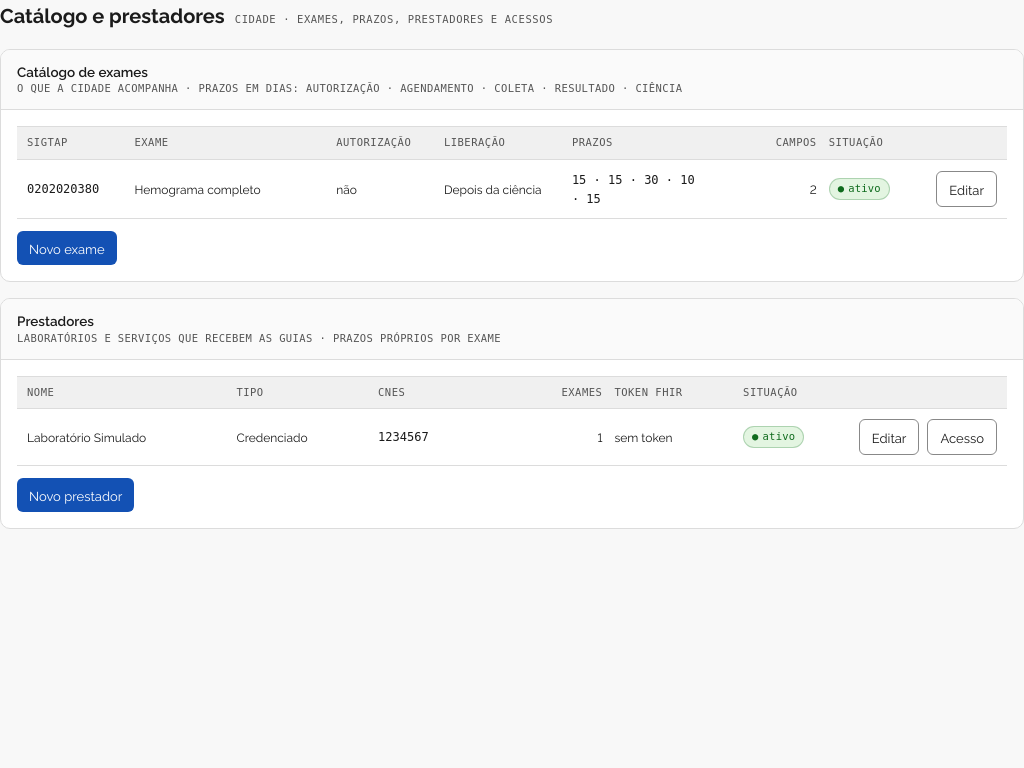
Scenario: ExamsAdmin — prestadores › token FHIR: aparece uma vez, some com Já guardei e nunca vai ao cache, console nem storage
The width and height of the screenshot is (1024, 768).
Step 1. Click the button with aria-label "Acesso de Laboratório Simulado" → {"x": 962, "y": 437}, box [927, 419, 997, 455]
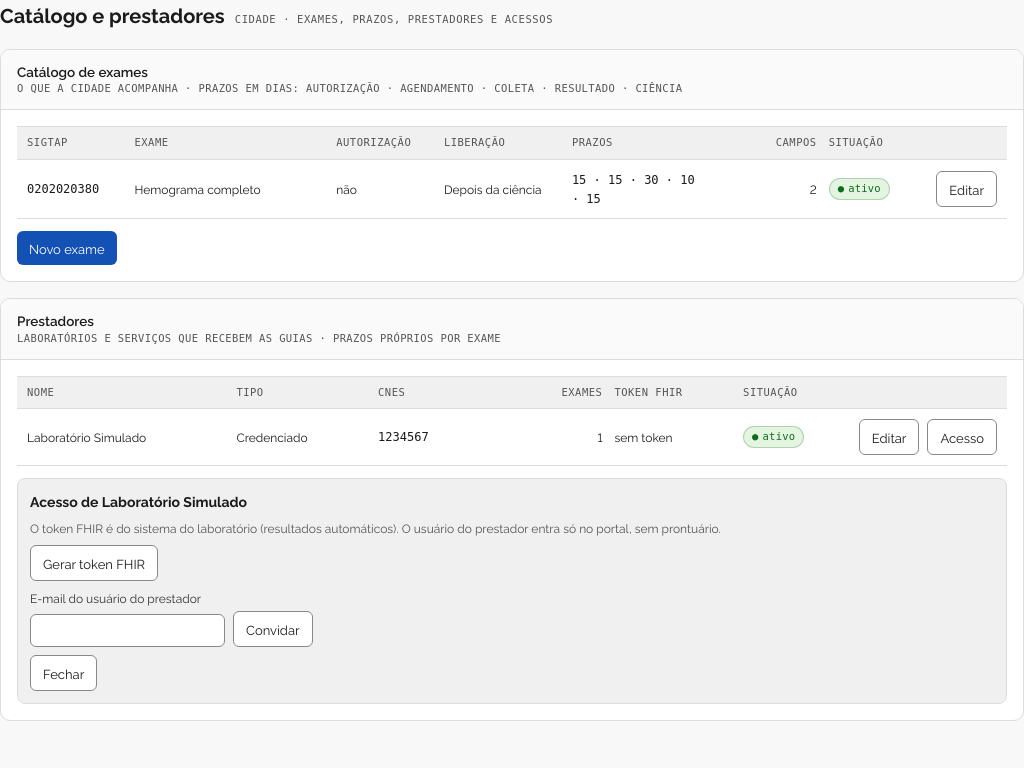
Step 2. Click the button "Gerar token FHIR" → {"x": 94, "y": 563}, box [30, 545, 158, 581]
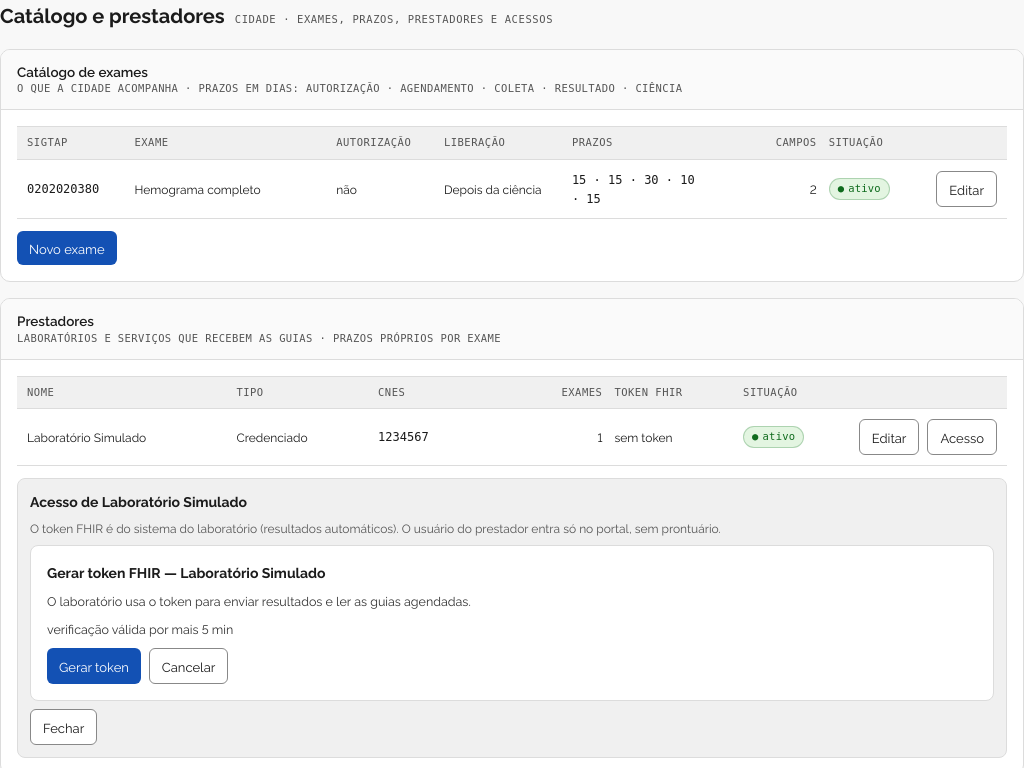
Step 3. Click the button "Gerar token" → {"x": 94, "y": 666}, box [47, 648, 141, 684]
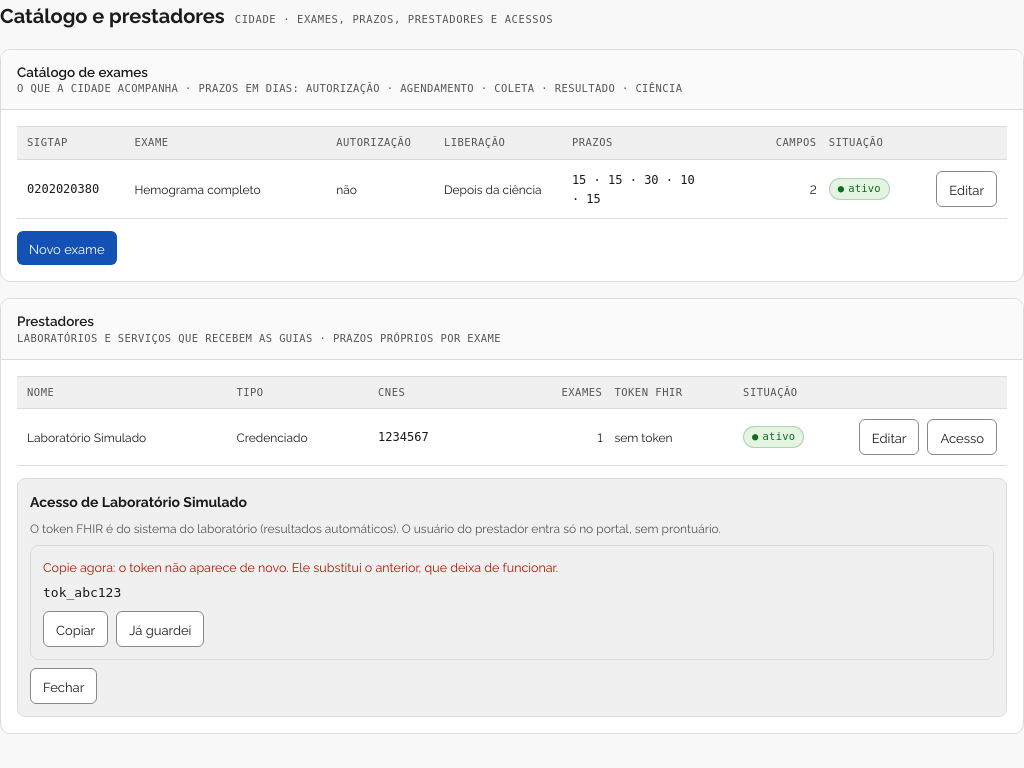
Check: the text "tok_abc123" is shown, box [43, 585, 121, 600]
Check: the text "Copie agora: o token não aparece de novo. Ele substitui o anterior, que deixa de funcionar." is shown, box [43, 558, 558, 575]
Step 4. Click the button "Já guardei" → {"x": 160, "y": 629}, box [116, 611, 204, 647]
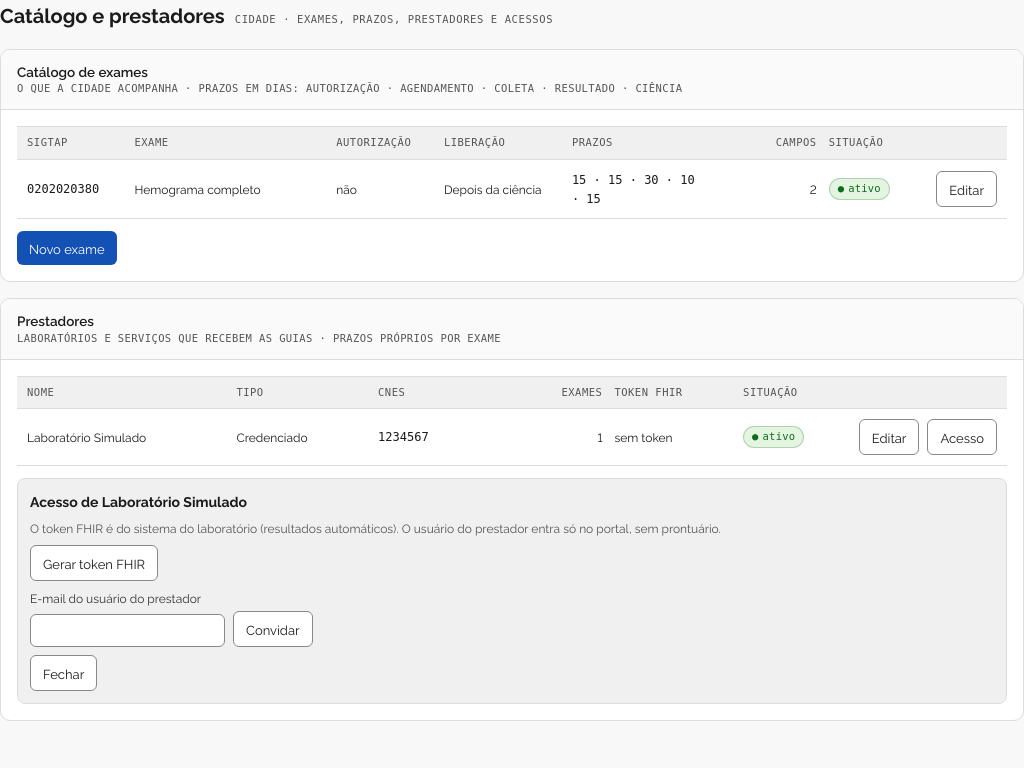
Check: the text "tok_abc123" is gone
